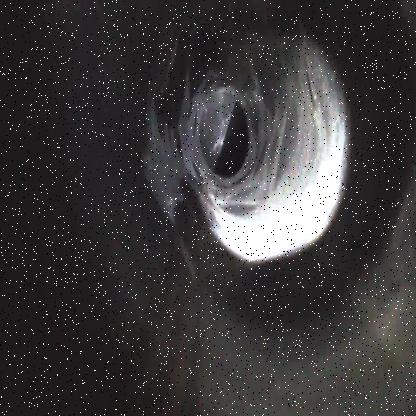Crack: (142, 9, 347, 261)
